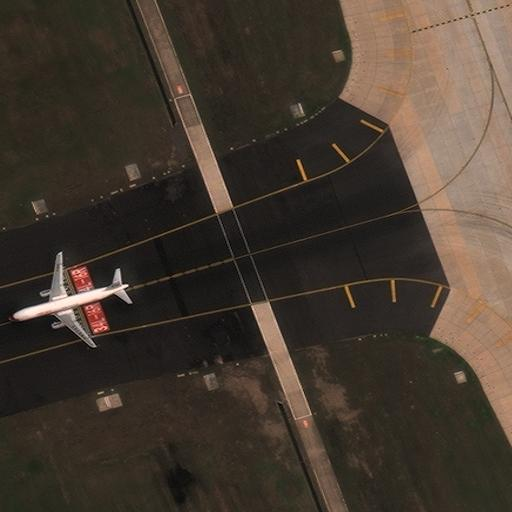Medium Civil Transport: (8, 253, 130, 347)
